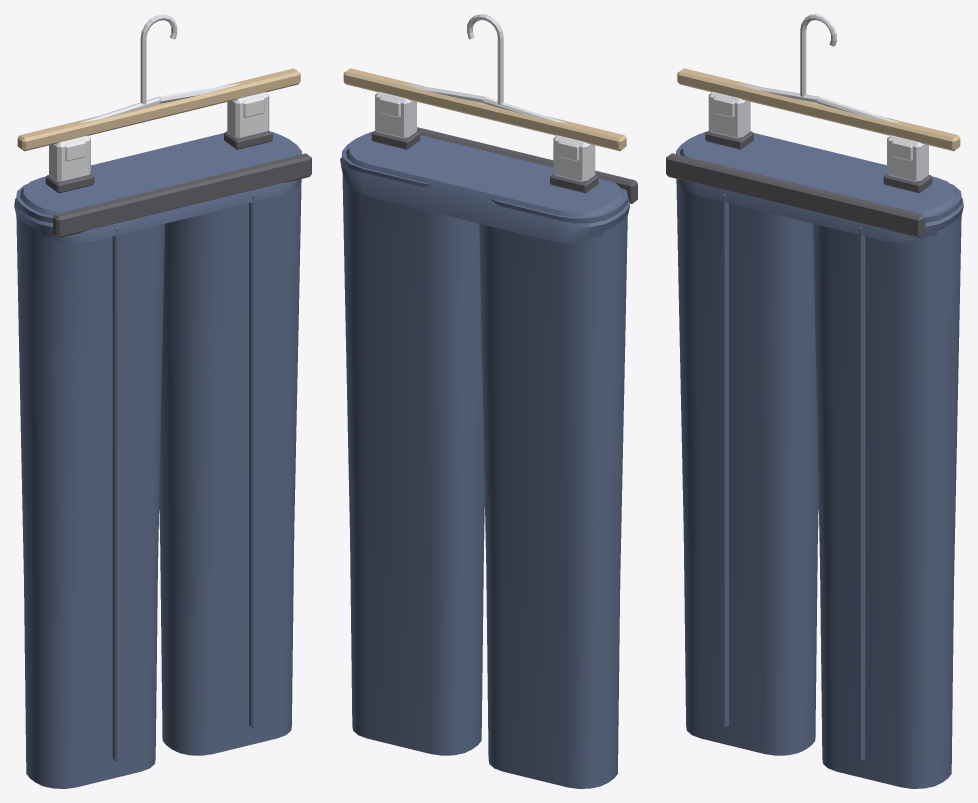
The model's file is clothing-rail-and-wardrobe-trousers-on-clip-hanger-2660f67f__35457.glb.
The picture shows the model from 3 angles, left to right: view 1: azimuth 30°, elevation 25°; view 2: azimuth 150°, elevation 25°; view 3: azimuth 330°, elevation 25°; orthographic projection.
Parts seen in each view (by area): view 1: trousers-on-clip-hanger; view 2: trousers-on-clip-hanger; view 3: trousers-on-clip-hanger.
Part boxes in pixels (x1,y1,x2,y2): trousers-on-clip-hanger: (14, 14, 311, 788); trousers-on-clip-hanger: (340, 14, 637, 788); trousers-on-clip-hanger: (666, 14, 963, 788).
Size of the model in its own units: 0.36 by 0.9073 by 0.12.
